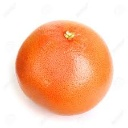orange: (15, 18, 114, 117)
